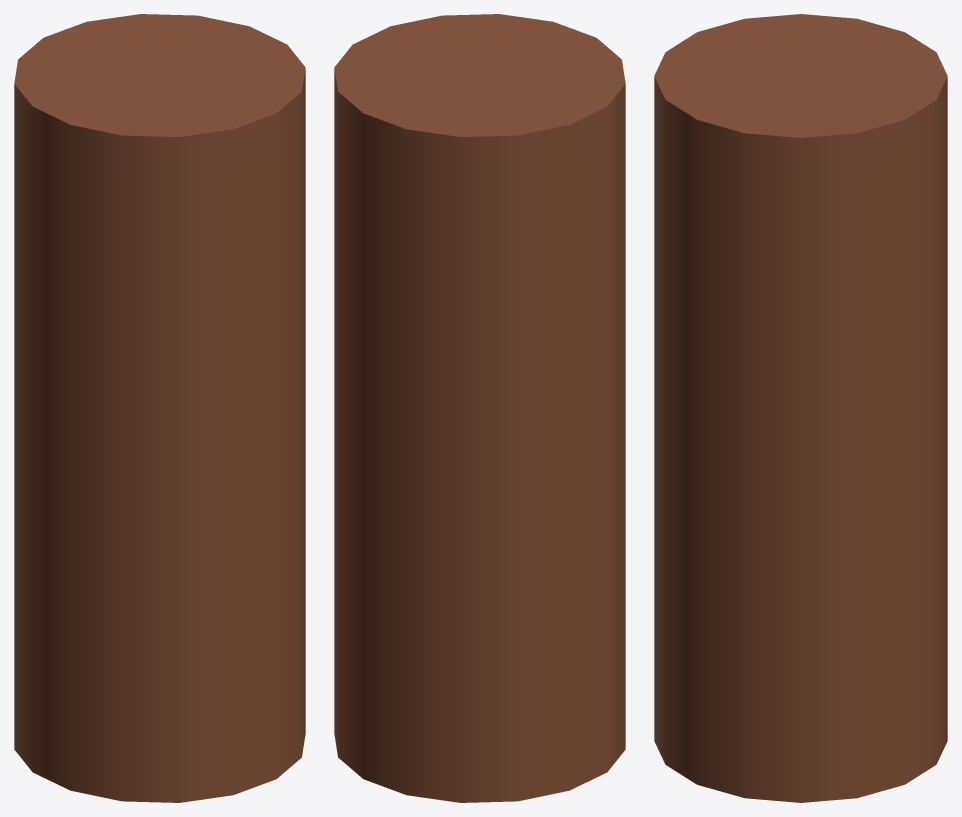
Rendered from test_hand.glb.
3 renders of one model, left to right at view 1: azimuth 30°, elevation 25°; view 2: azimuth 150°, elevation 25°; view 3: azimuth 270°, elevation 25°, orthographic.
Size of the model in its own units: 0.4 by 1 by 0.4.
